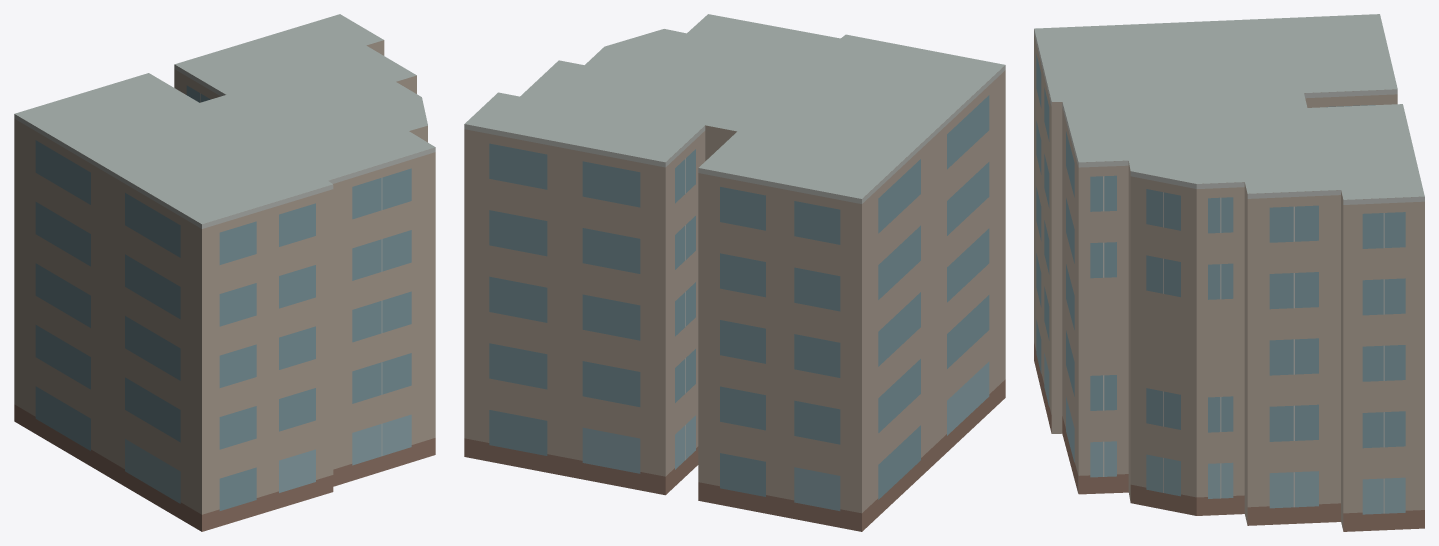
The model's file is survey-upis-32961329.glb.
The picture shows the model from 3 angles, left to right: view 1: azimuth 30°, elevation 25°; view 2: azimuth 150°, elevation 25°; view 3: azimuth 270°, elevation 25°; orthographic projection. The views are drawn at different scales.
Parts seen in each view (by area): view 1: survey-upis-32961329.tmp; view 2: survey-upis-32961329.tmp; view 3: survey-upis-32961329.tmp.
Boxes of the visible parts, x1=… form: survey-upis-32961329.tmp: x1=14, y1=14, x2=435, y2=531; survey-upis-32961329.tmp: x1=464, y1=14, x2=1005, y2=531; survey-upis-32961329.tmp: x1=1034, y1=14, x2=1424, y2=531.
Size of the model in its own units: 18.99 by 15.8 by 16.87.
